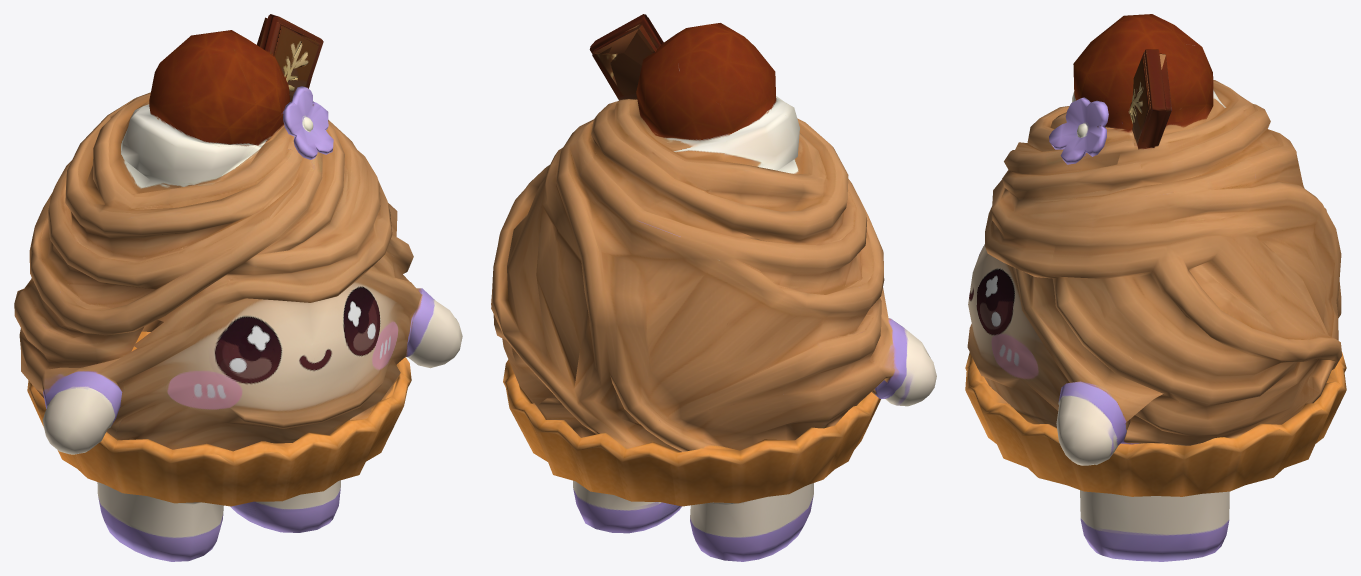
The model's file is source.fbx.
3 views of the same model, side by side, from view 1: azimuth 30°, elevation 25°; view 2: azimuth 150°, elevation 25°; view 3: azimuth 270°, elevation 25° (orthographic).
Visible parts, largest first — view 1: Mesh_0; view 2: Mesh_0; view 3: Mesh_0.
Boxes of the visible parts, bbox=[...] form: Mesh_0: bbox=[14, 14, 462, 561]; Mesh_0: bbox=[491, 14, 936, 561]; Mesh_0: bbox=[965, 14, 1346, 561].
Size of the model in its own units: 60.74 by 70 by 49.08.
Materials: 1 (1 with a texture image).
